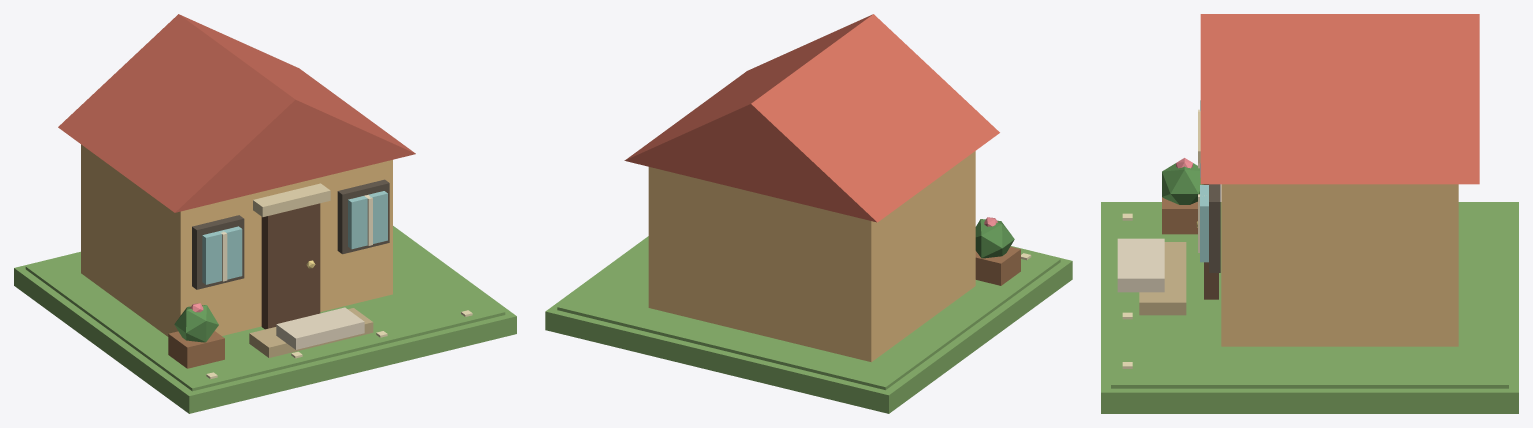
The model's file is hut-lv1.obj.
3 renders of one model, left to right at view 1: azimuth 30°, elevation 25°; view 2: azimuth 150°, elevation 25°; view 3: azimuth 270°, elevation 25°, orthographic. The views are drawn at different scales.
Parts seen in each view (by area): view 1: hut_3, hut_0, hut_2, hut_4, hut_8, hut_7, hut_14, hut_15, hut_5, hut_13, hut_16, hut_9; view 2: hut_2, hut_3, hut_0, hut_15, hut_16; view 3: hut_3, hut_0, hut_2, hut_14, hut_13, hut_16, hut_15, hut_7, hut_8, hut_4.
Part boxes in pixels (<box>): hut_3: <box>58,14,415,212</box>; hut_0: <box>14,226,516,413</box>; hut_2: <box>81,144,392,336</box>; hut_4: <box>261,203,320,329</box>; hut_8: <box>202,191,387,284</box>; hut_7: <box>192,179,389,289</box>; hut_14: <box>276,307,364,349</box>; hut_15: <box>168,331,224,368</box>; hut_5: <box>253,183,330,217</box>; hut_13: <box>249,308,373,357</box>; hut_16: <box>174,305,218,342</box>; hut_9: <box>220,195,372,281</box>; hut_2: <box>648,151,975,362</box>; hut_3: <box>624,14,999,222</box>; hut_0: <box>545,236,1072,413</box>; hut_15: <box>975,246,1020,285</box>; hut_16: <box>975,219,1014,258</box>; hut_3: <box>1200,14,1479,184</box>; hut_0: <box>1101,202,1518,413</box>; hut_2: <box>1221,184,1458,346</box>; hut_14: <box>1117,238,1164,292</box>; hut_13: <box>1139,242,1186,315</box>; hut_16: <box>1162,163,1203,204</box>; hut_15: <box>1162,197,1197,234</box>; hut_7: <box>1209,184,1220,272</box>; hut_8: <box>1200,100,1208,262</box>; hut_4: <box>1204,184,1218,299</box>.
Size of the model in its own units: 2.7 by 1.95 by 2.5.
